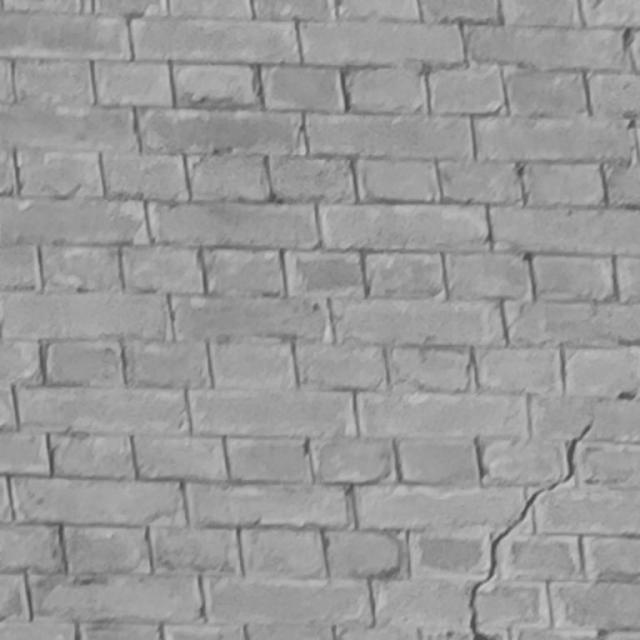crack: (469, 421, 593, 640)
